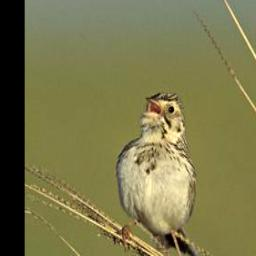Sparrow: (112, 90, 197, 256)
